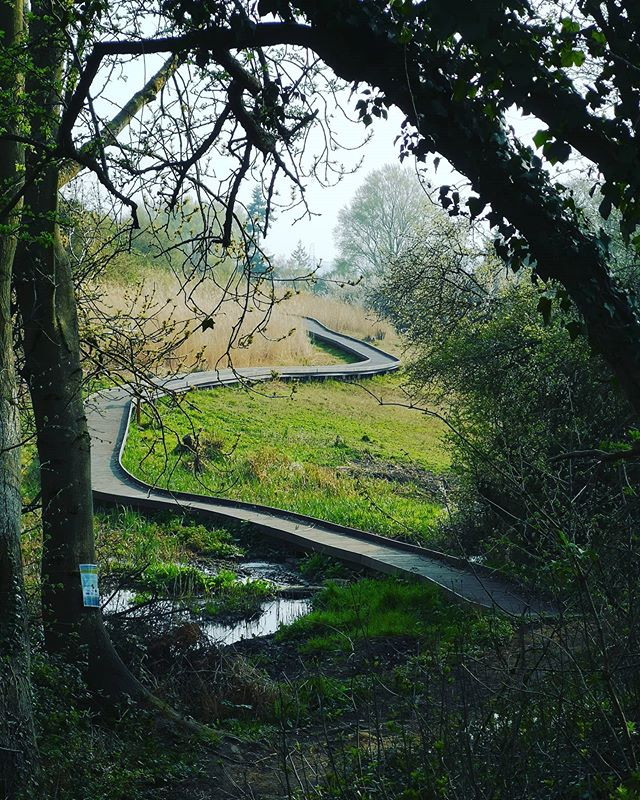vegetation: (6, 7, 640, 800)
